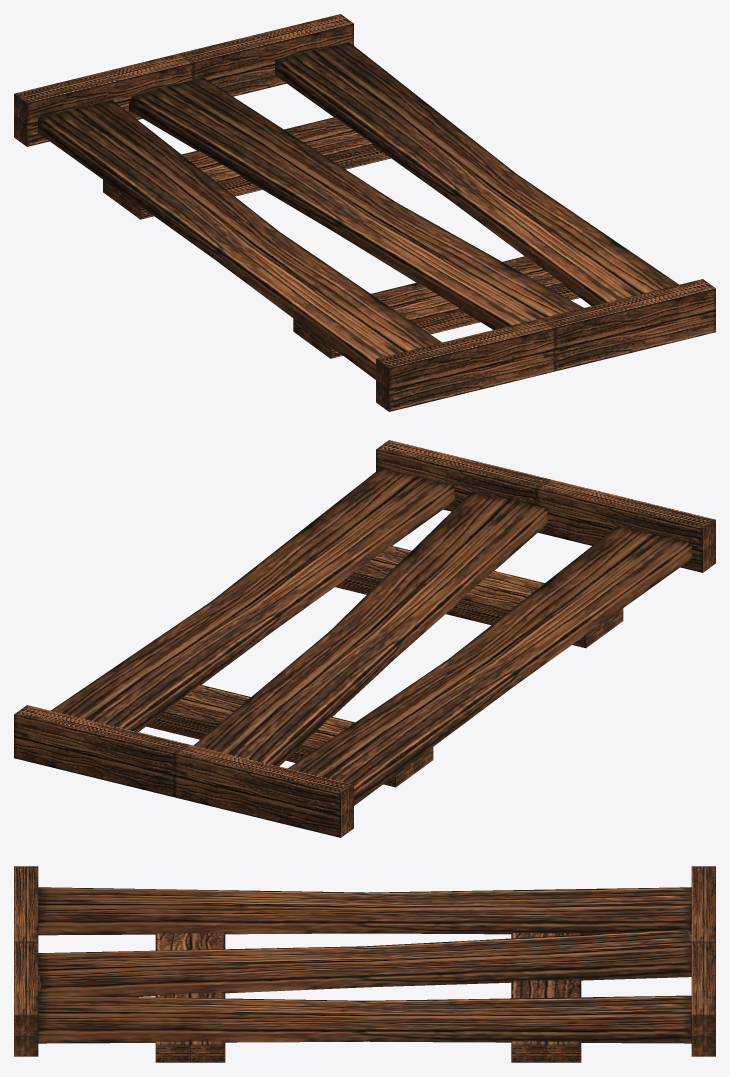
The model's file is RM_FLOATING_PLATFORM01.fbx.
3 renders of one model, top to bottom at view 1: azimuth 30°, elevation 25°; view 2: azimuth 150°, elevation 25°; view 3: azimuth 270°, elevation 25°, orthographic. The views are drawn at different scales.
Visible parts, largest first — view 1: RM_FLOATING_PLATFORM01; view 2: RM_FLOATING_PLATFORM01; view 3: RM_FLOATING_PLATFORM01.
Boxes of the visible parts, x1,y1,x2,y2 form: RM_FLOATING_PLATFORM01: [14, 14, 715, 411]; RM_FLOATING_PLATFORM01: [14, 440, 715, 837]; RM_FLOATING_PLATFORM01: [14, 866, 715, 1062].
Size of the model in its own units: 18013 by 2635 by 35801.
Materials: 1 (1 with a texture image).
